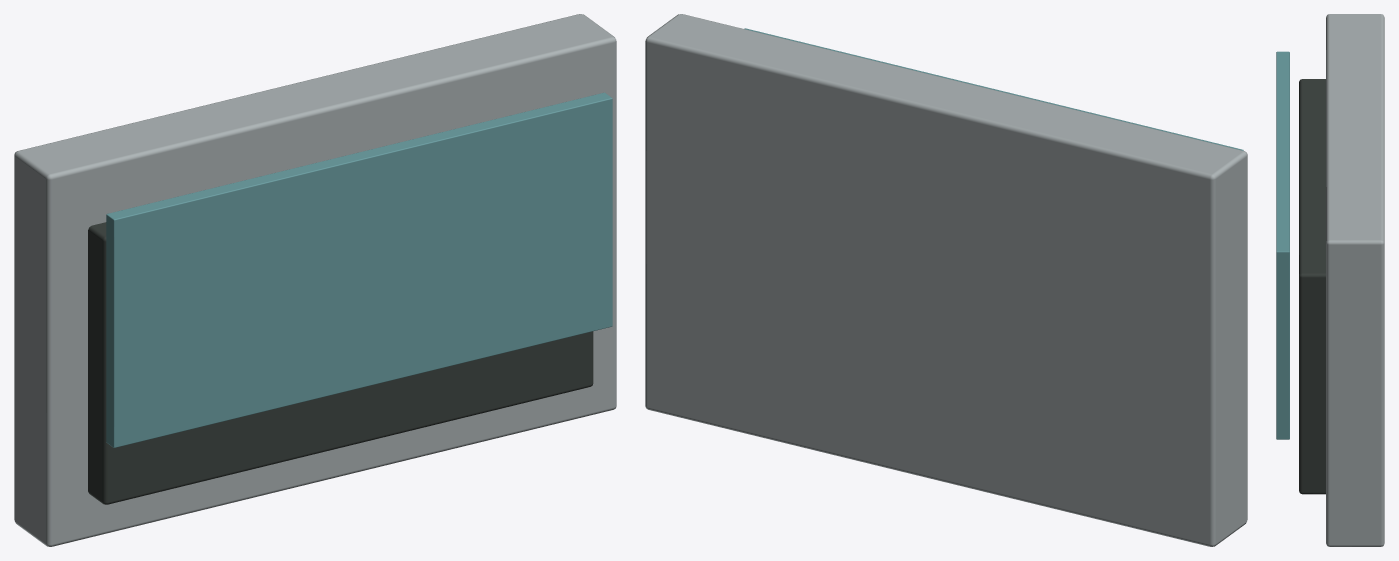
Rendered from scavengers-loot-library-display-module-e6eabdef__2512.glb.
3 views of the same model, side by side, from view 1: azimuth 30°, elevation 25°; view 2: azimuth 150°, elevation 25°; view 3: azimuth 270°, elevation 25° (orthographic). The views are drawn at different scales.
Parts seen in each view (by area): view 1: display-module; view 2: display-module; view 3: display-module.
Part boxes in pixels (x1,y1,x2,y2): display-module: [14, 14, 616, 546]; display-module: [645, 14, 1247, 546]; display-module: [1276, 14, 1384, 546].
Bounding box in the file's own units: 0.12 × 0.075 × 0.024.
